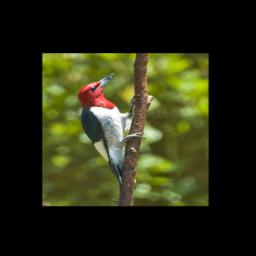Woodpecker: (77, 74, 145, 189)
